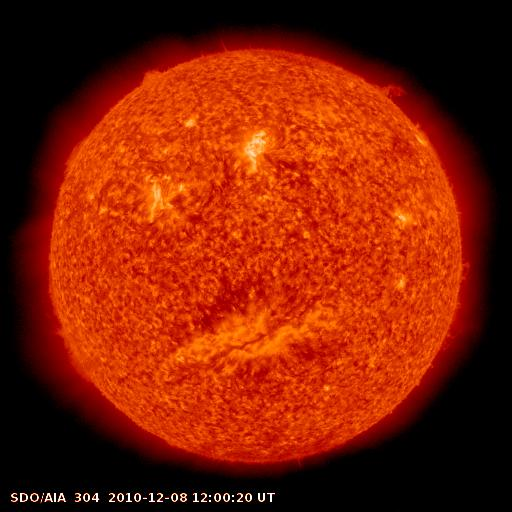prominence: (48, 321, 101, 390), (365, 65, 416, 119), (129, 51, 182, 98), (52, 131, 98, 179), (449, 254, 478, 296)
